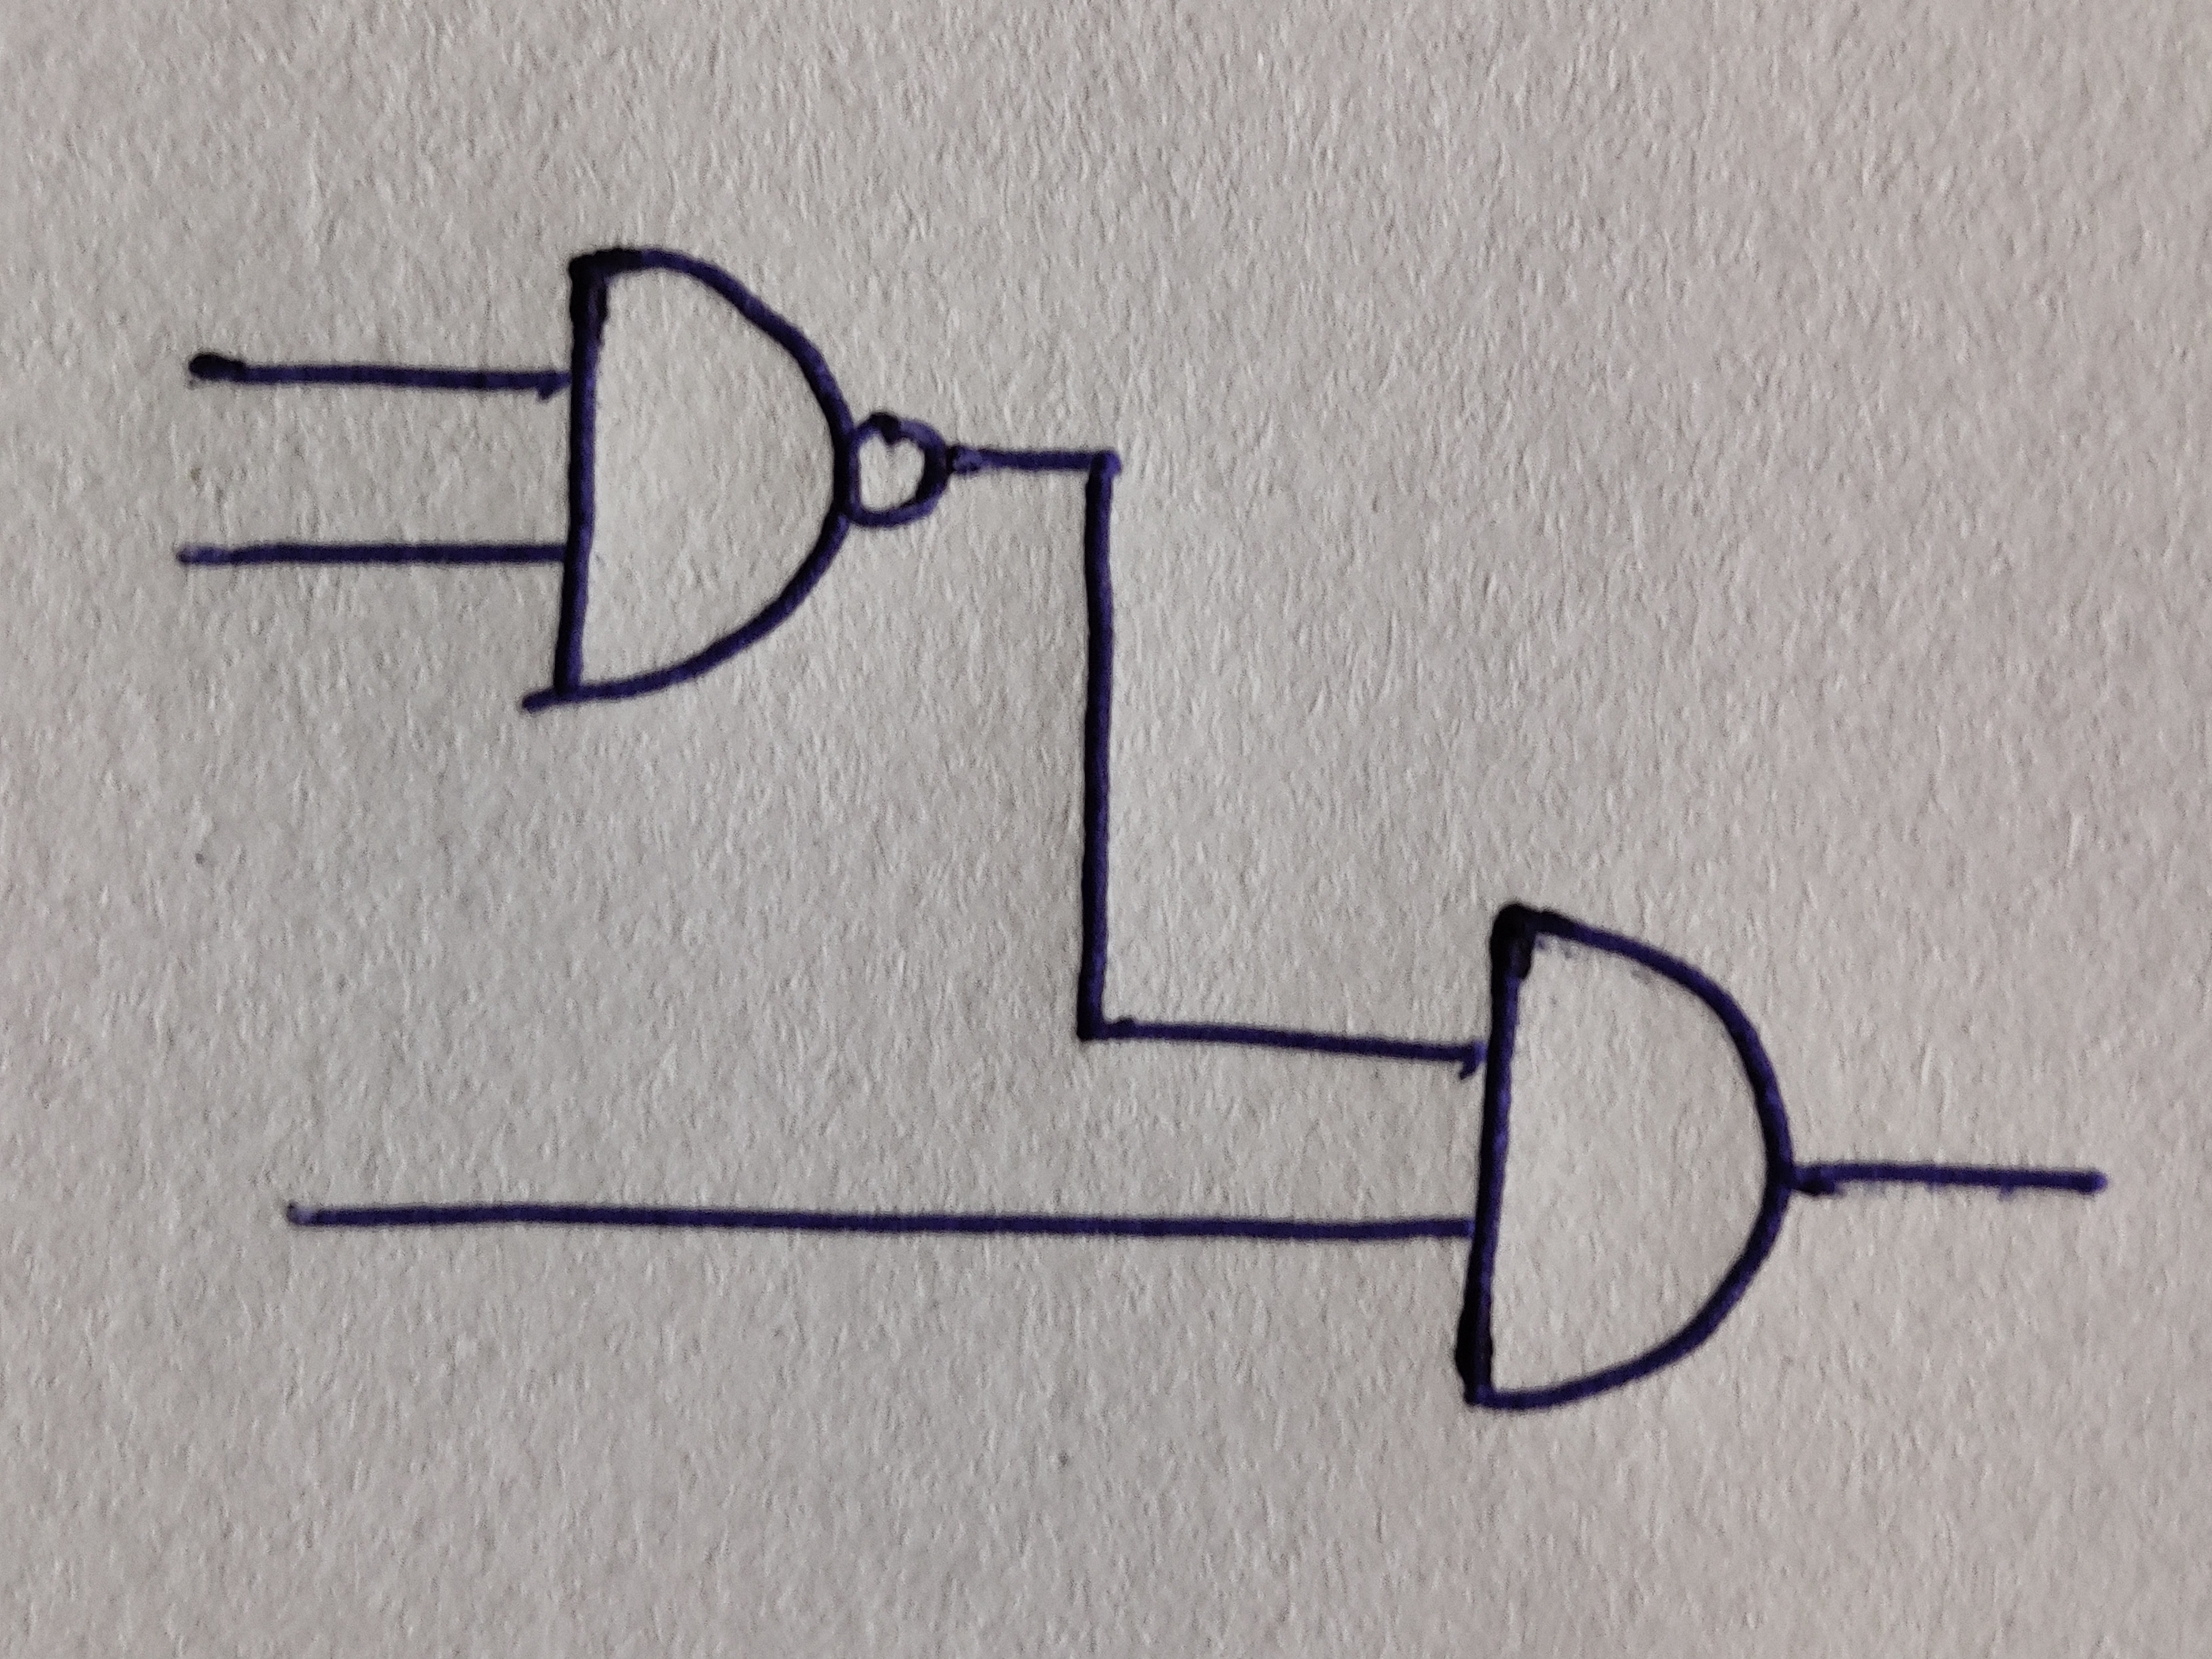and: (1454, 904, 1796, 1410), (521, 246, 859, 713)
not: (853, 411, 949, 528)
